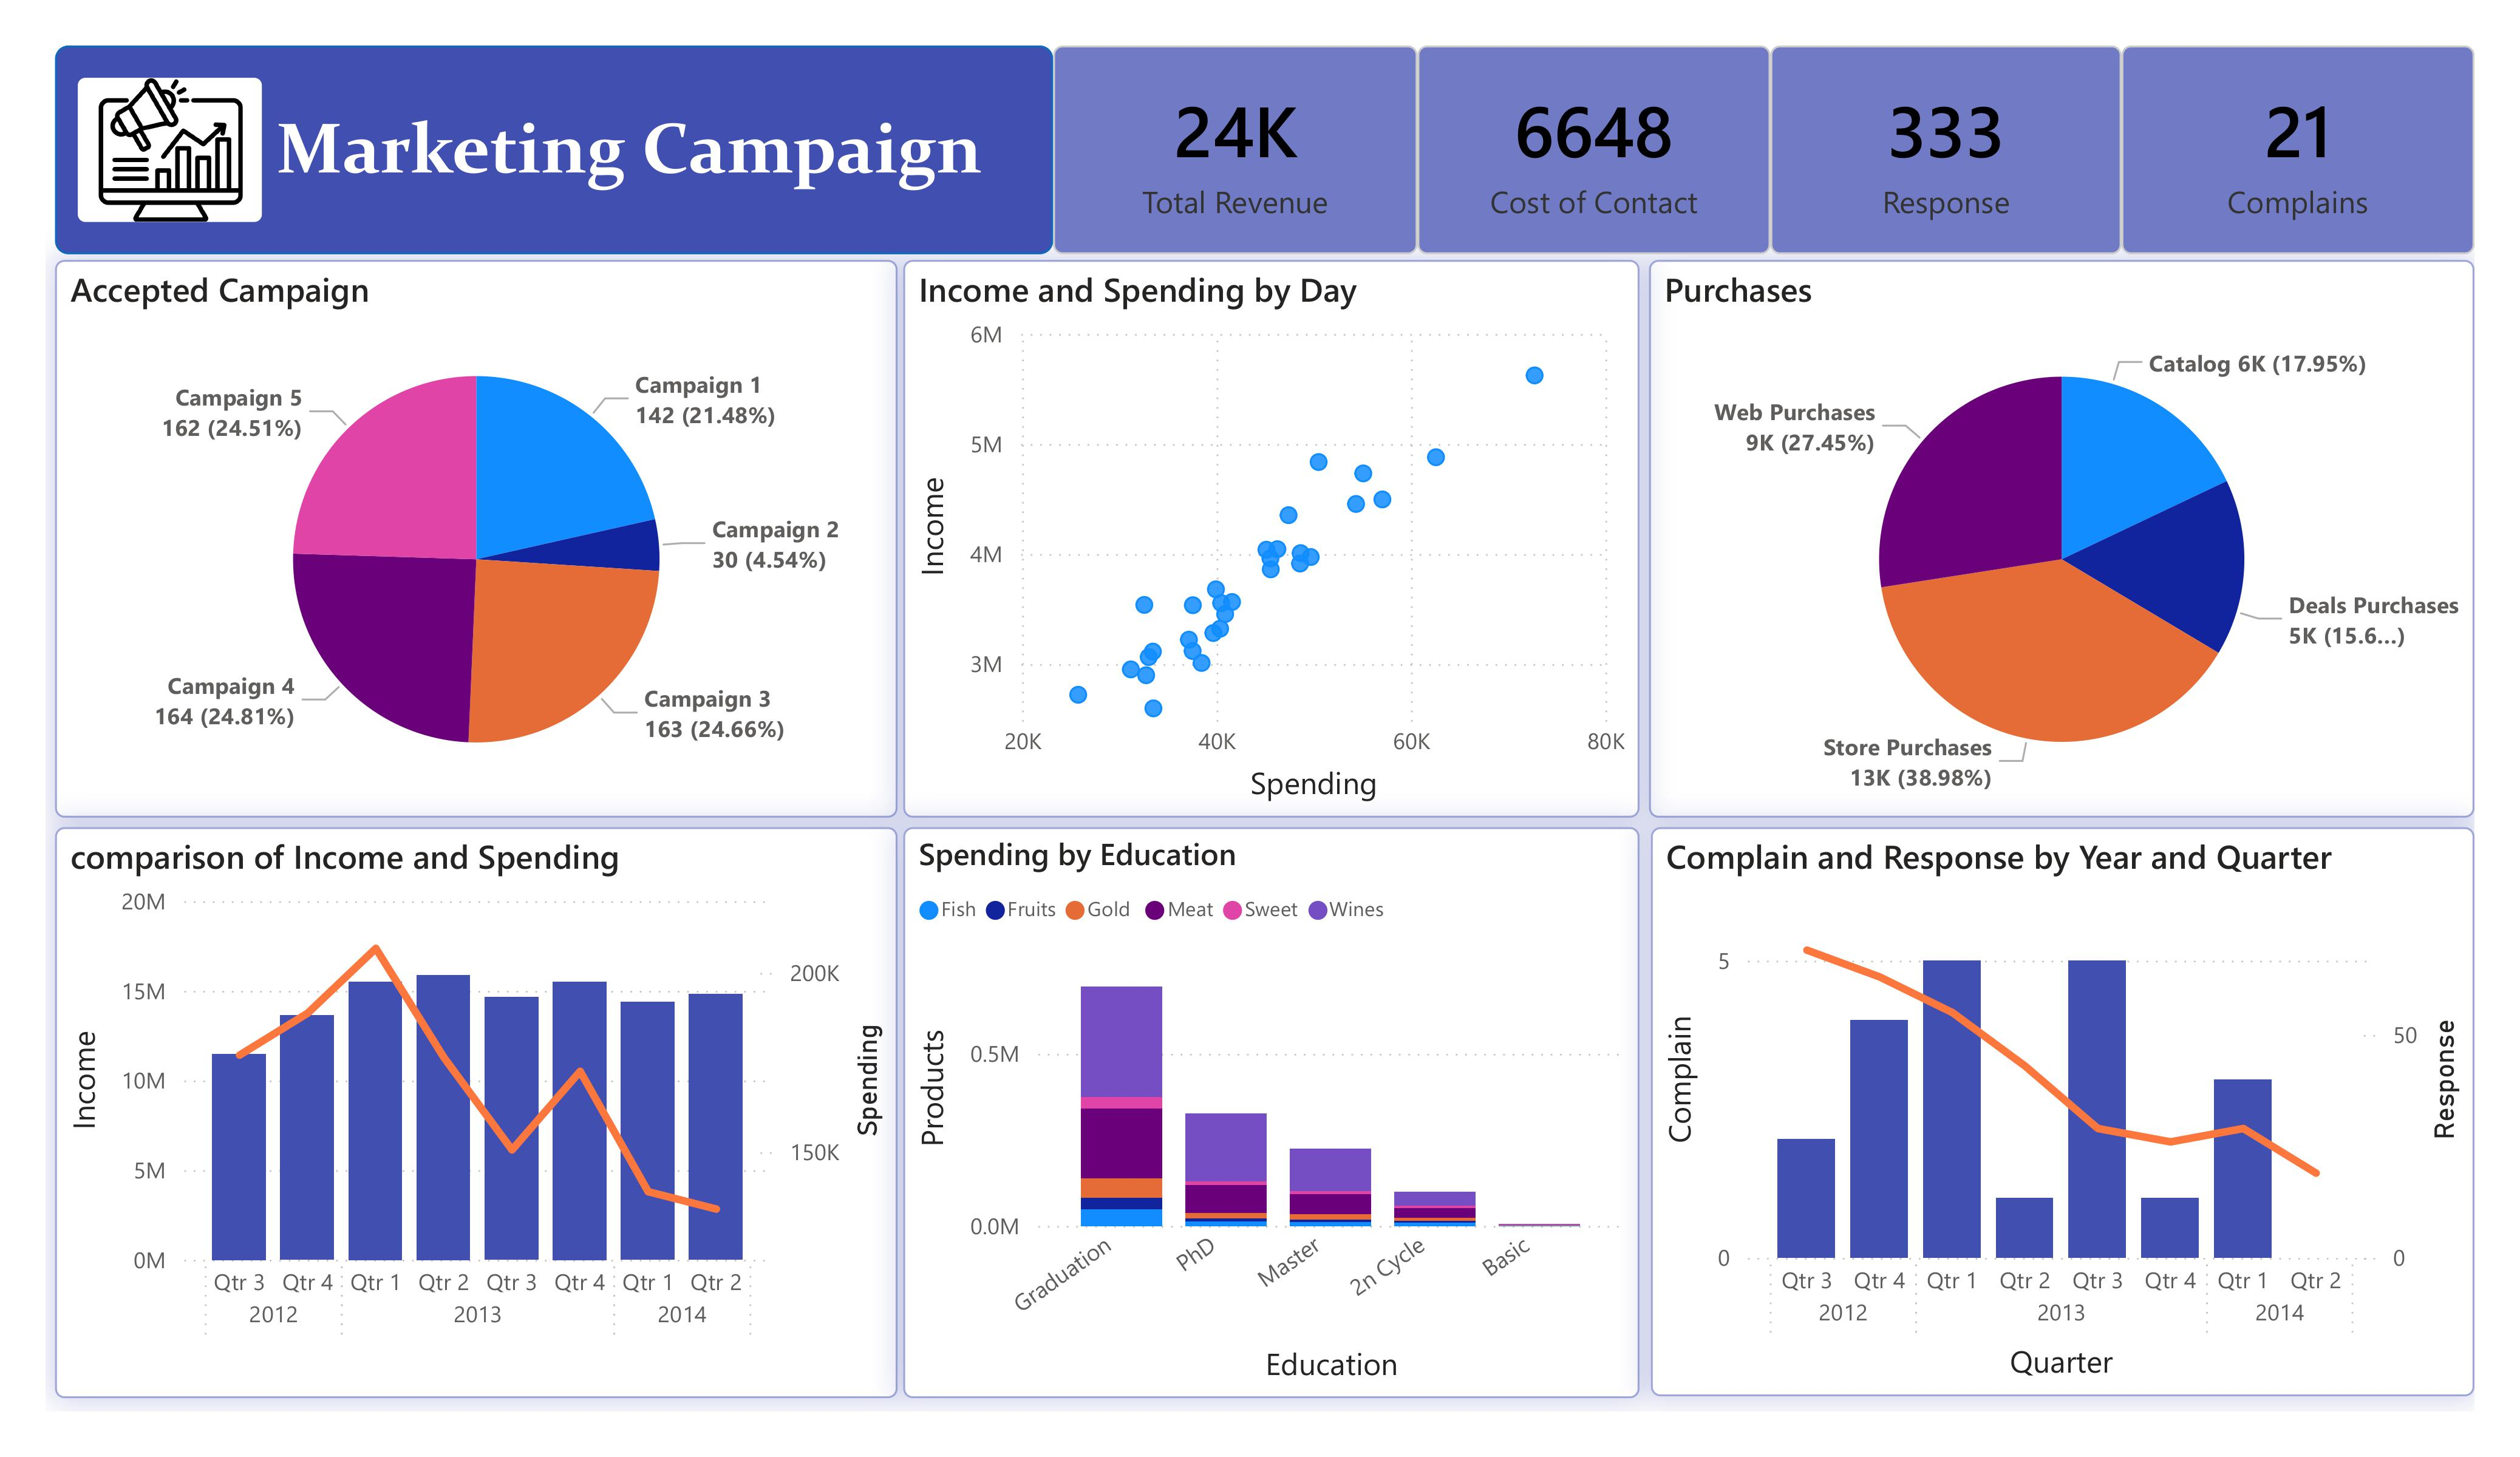

The dashboard page shown, as its layout file describes it:
{"tool":"powerbi","page":{"name":"campaign","canvas":[1280,720],"ordinal":0},"visuals":[{"type":"pieChart","title":"Accepted Campaign","fields":{"Y":["Sum(Sheet1.AcceptedCmp1)","Sum(Sheet1.AcceptedCmp2)","Sum(Sheet1.AcceptedCmp3)","Sum(Sheet1.AcceptedCmp4)","Sum(Sheet1.AcceptedCmp5)"]},"box":[4.9,112.5,443.9,294.7],"z":0},{"type":"pieChart","title":"Purchases","fields":{"Y":["Sum(Sheet1.NumCatalogPurchases)","Sum(Sheet1.NumDealsPurchases)","Sum(Sheet1.NumStorePurchases)","Sum(Sheet1.NumWebPurchases)"]},"box":[845,112.5,435.3,294.7],"z":1000},{"type":"scatterChart","title":"Income and Spending by Day","fields":{"X":["Sum(Sheet1.Spending)"],"Category":["Sheet1.Dt_Customer.Variation.Date Hierarchy.Day"],"Y":["Sum(Sheet1.Income)"]},"box":[452.4,112.5,387.6,294.7],"z":2000},{"type":"lineStackedColumnComboChart","title":"comparison of Income and Spending","fields":{"Y":["Sum(Sheet1.Income)"],"Y2":["Sum(Sheet1.Spending)"],"Category":["Sheet1.Dt_Customer.Variation.Date Hierarchy.Year","Sheet1.Dt_Customer.Variation.Date Hierarchy.Quarter"]},"box":[4.9,412.1,443.9,300.8],"z":3000},{"type":"columnChart","title":"Spending by Education","fields":{"Category":["Sheet1.Education"],"Y":["Sum(Sheet1.MntFishProducts)","Sum(Sheet1.MntFruits)","Sum(Sheet1.MntGoldProds)","Sum(Sheet1.MntMeatProducts)","Sum(Sheet1.MntSweetProducts)","Sum(Sheet1.MntWines)"]},"box":[452.4,412.1,387.6,300.8],"z":4000},{"type":"lineStackedColumnComboChart","fields":{"Y":["Sum(Sheet1.Complain)"],"Category":["Sheet1.Dt_Customer.Variation.Date Hierarchy.Year","Sheet1.Dt_Customer.Variation.Date Hierarchy.Quarter"],"Y2":["Sum(Sheet1.Response)"]},"box":[845.9,412.1,434.1,299.6],"z":5000},{"type":"shape","box":[4.9,0,525.8,110.1],"z":6000},{"type":"textbox","box":[66,25.7,483,75.8],"z":7000},{"type":"card","fields":{"Values":["Sum(Sheet1.Complain)"]},"box":[1094.4,0,185.9,110.1],"z":8000},{"type":"card","fields":{"Values":["Sum(Sheet1.Response)"]},"box":[908.6,0,185.9,110.1],"z":9000},{"type":"card","fields":{"Values":["Sum(Sheet1.Z_CostContact)"]},"box":[722.7,0,185.9,110.1],"z":10000},{"type":"card","fields":{"Values":["Sum(Sheet1.Z_Revenue)"]},"box":[530.7,0,192,110.1],"z":11000},{"type":"image","box":[17.1,17.1,96.6,75.8],"z":11001}]}

Visuals, with their boxes in screenshot pixels (x1, y1, x2, y2):
"Accepted Campaign" pieChart: crop(55, 259, 897, 818)
"Purchases" pieChart: crop(1649, 259, 2474, 818)
"Income and Spending by Day" scatterChart: crop(904, 259, 1640, 818)
"comparison of Income and Spending" lineStackedColumnComboChart: crop(55, 827, 897, 1398)
"Spending by Education" columnChart: crop(904, 827, 1640, 1398)
lineStackedColumnComboChart - Sum(Sheet1.Complain) x Sheet1.Dt_Customer.Variation.Date Hierarchy.Year: crop(1650, 827, 2474, 1396)
shape: crop(55, 46, 1052, 254)
textbox: crop(171, 94, 1088, 238)
card - Sum(Sheet1.Complain): crop(2122, 46, 2474, 254)
card - Sum(Sheet1.Response): crop(1769, 46, 2122, 254)
card - Sum(Sheet1.Z_CostContact): crop(1417, 46, 1769, 254)
card - Sum(Sheet1.Z_Revenue): crop(1052, 46, 1417, 254)
image: crop(78, 78, 261, 222)
